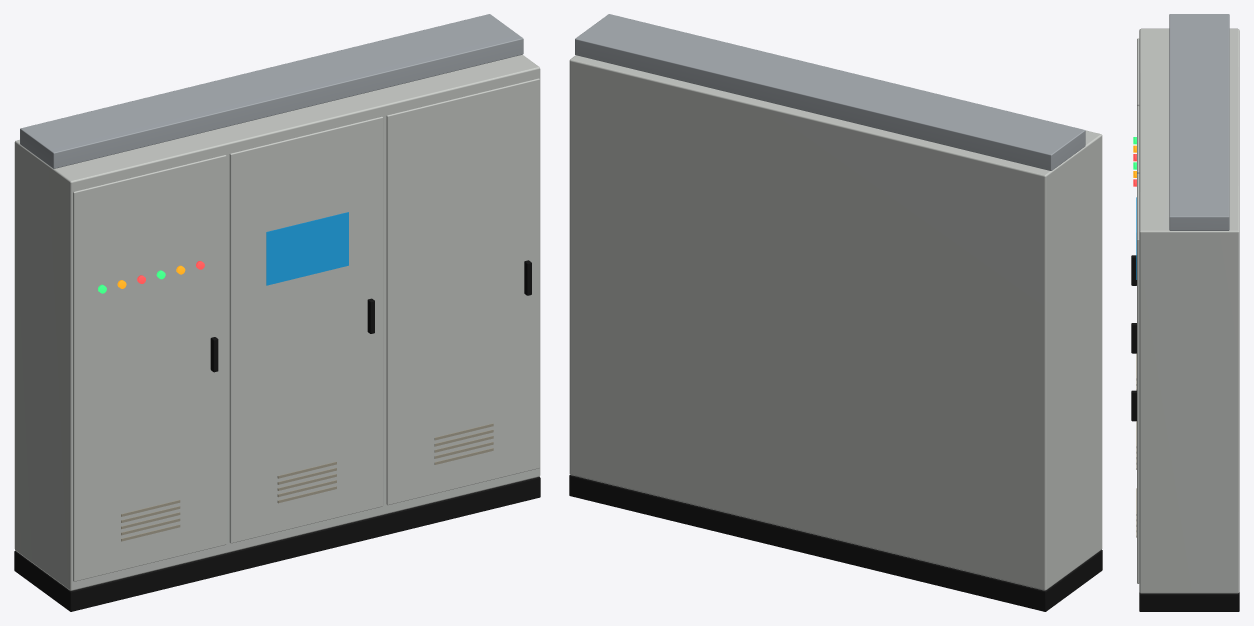
The model's file is panel.glb.
3 renders of one model, left to right at view 1: azimuth 30°, elevation 25°; view 2: azimuth 150°, elevation 25°; view 3: azimuth 270°, elevation 25°, orthographic. The views are drawn at different scales.
Visible parts, largest first — view 1: cabinet, screen; view 2: cabinet; view 3: cabinet, pilots.
Boxes of the visible parts, bbox=[...] form: cabinet: bbox=[14, 14, 540, 611]; screen: bbox=[266, 212, 348, 285]; cabinet: bbox=[569, 14, 1102, 611]; cabinet: bbox=[1131, 14, 1239, 611]; pilots: bbox=[1133, 137, 1136, 186].
Bounding box in the file's own units: 2.4 × 2.18 × 0.54.
